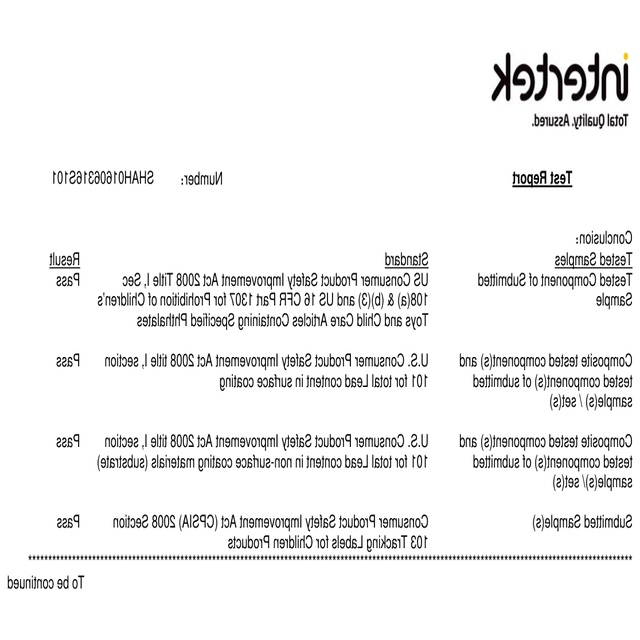intertek: (485, 50, 639, 110)
